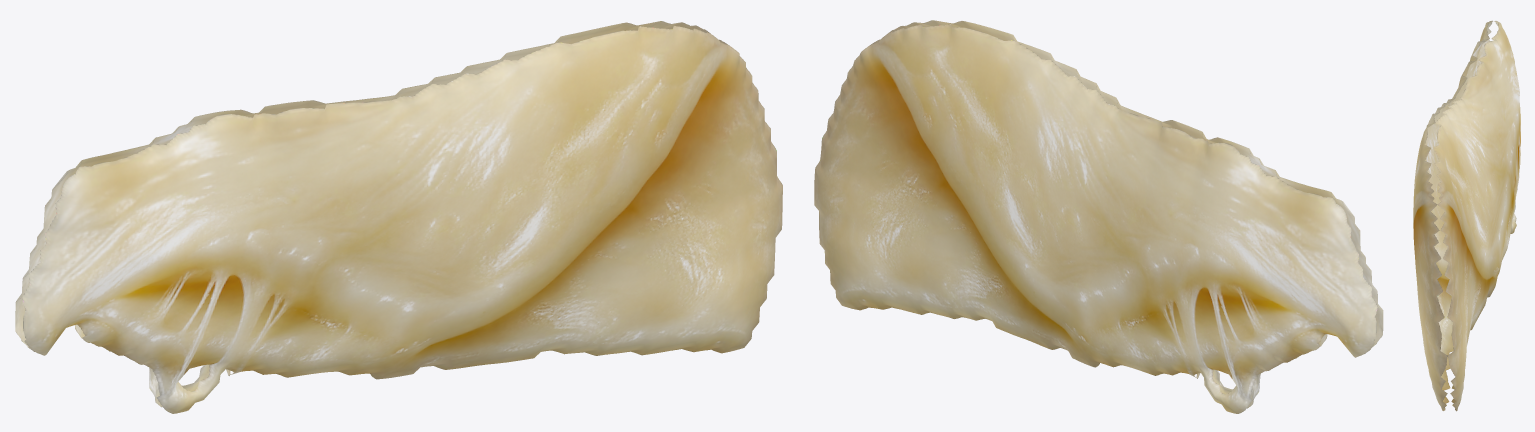
File: mozzarella.glb
The picture shows the model from 3 angles, left to right: view 1: azimuth 30°, elevation 25°; view 2: azimuth 150°, elevation 25°; view 3: azimuth 270°, elevation 25°; orthographic projection. The views are drawn at different scales.
Parts seen in each view (by area): view 1: mozzarella; view 2: mozzarella; view 3: mozzarella.
Boxes of the visible parts, x1,y1,x2,y2 form: mozzarella: (15, 21, 782, 413); mozzarella: (814, 20, 1383, 413); mozzarella: (1413, 20, 1520, 411).
Bounding box in the file's own units: 1.98 × 0.9615 × 0.3939.
1 material, 1 textured.
